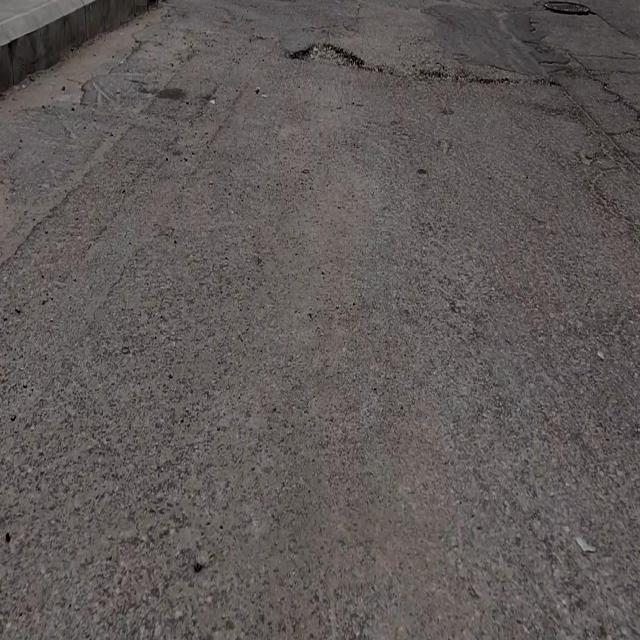Potholes: (291, 42, 362, 69)
